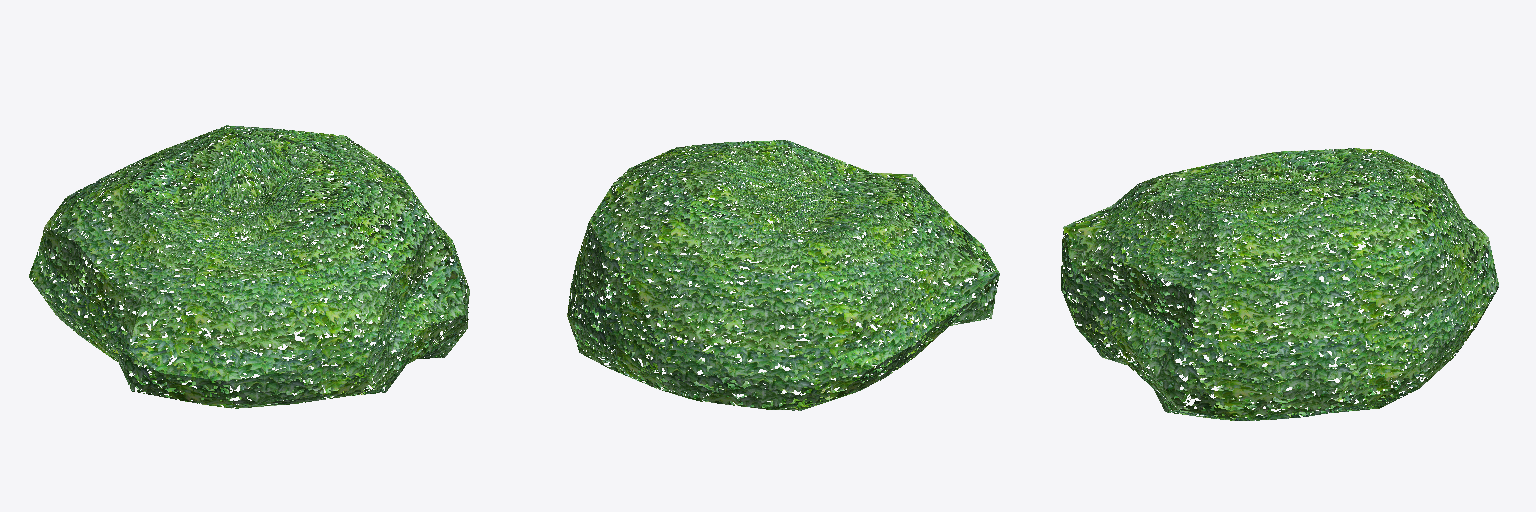
The picture shows the model from 3 angles: view 1: azimuth 30°, elevation 25°; view 2: azimuth 150°, elevation 25°; view 3: azimuth 270°, elevation 25°; orthographic projection.
Bounding box in the file's own units: 6.38 × 3.15 × 6.81.
1 materials, 1 textured.